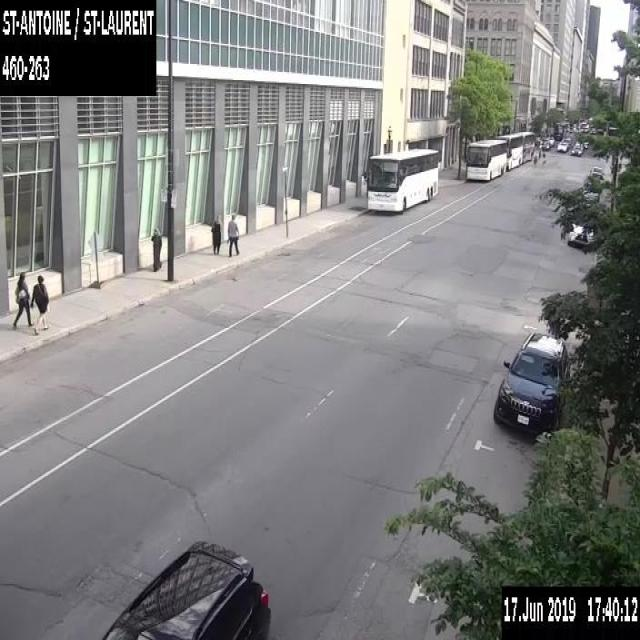bus: (365, 143, 439, 213), (464, 138, 506, 180), (493, 132, 523, 170), (514, 130, 534, 162)
construction: (85, 225, 106, 287)
cyclist: (532, 146, 537, 164), (538, 144, 541, 157)
pedestrian: (12, 271, 34, 332), (30, 274, 48, 334), (225, 214, 240, 258), (150, 227, 161, 269), (210, 216, 220, 255)
vehicle: (102, 537, 272, 639), (492, 328, 571, 439), (567, 222, 594, 250), (589, 164, 604, 179), (556, 140, 568, 151), (572, 143, 582, 155), (540, 137, 550, 149), (544, 136, 554, 146), (561, 138, 570, 146)
